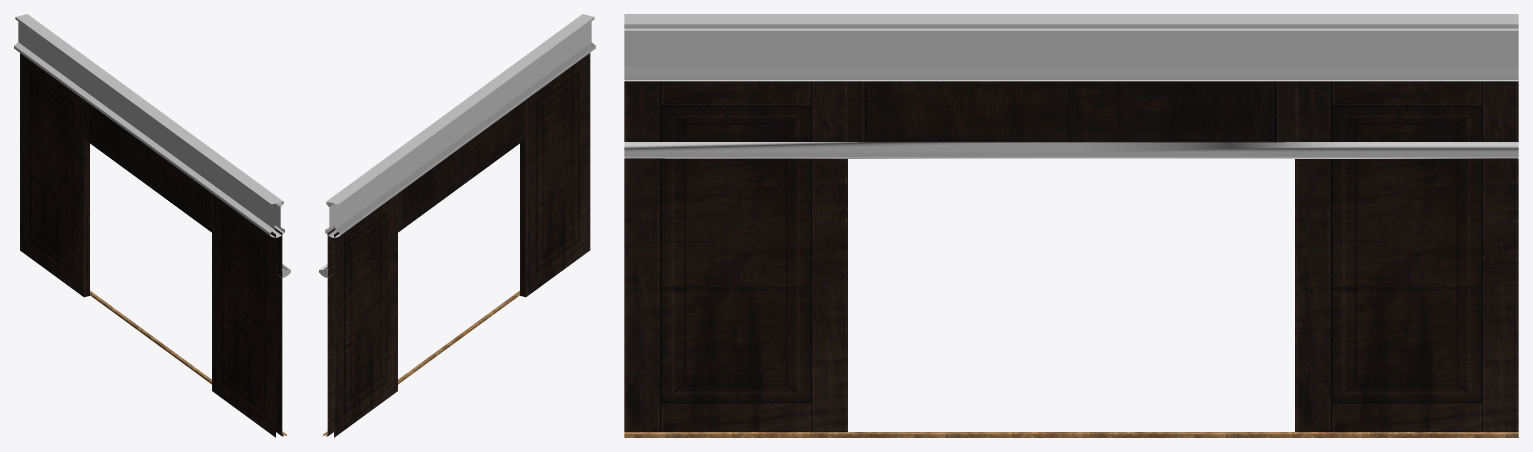
The model's file is engineroom_balcony_office_slidedoors.DAE.
The picture shows the model from 3 angles, left to right: view 1: azimuth 30°, elevation 25°; view 2: azimuth 150°, elevation 25°; view 3: azimuth 270°, elevation 25°; orthographic projection. The views are drawn at different scales.
Visible parts, largest first — view 1: Box007, balcony_straight_metal003, Box015; view 2: Box007, balcony_straight_metal003, Box015; view 3: Box007, balcony_straight_metal003, Box015.
Part boxes in pixels (x1,y1,x2,y2): Box007: [20, 53, 282, 437]; balcony_straight_metal003: [14, 14, 290, 277]; Box015: [90, 290, 286, 436]; Box007: [327, 53, 590, 437]; balcony_straight_metal003: [319, 14, 595, 277]; Box015: [323, 290, 519, 436]; Box007: [624, 81, 1518, 431]; balcony_straight_metal003: [624, 14, 1518, 158]; Box015: [624, 432, 1518, 437].
Size of the model in its own units: 0.3712 by 4.06 by 8.
